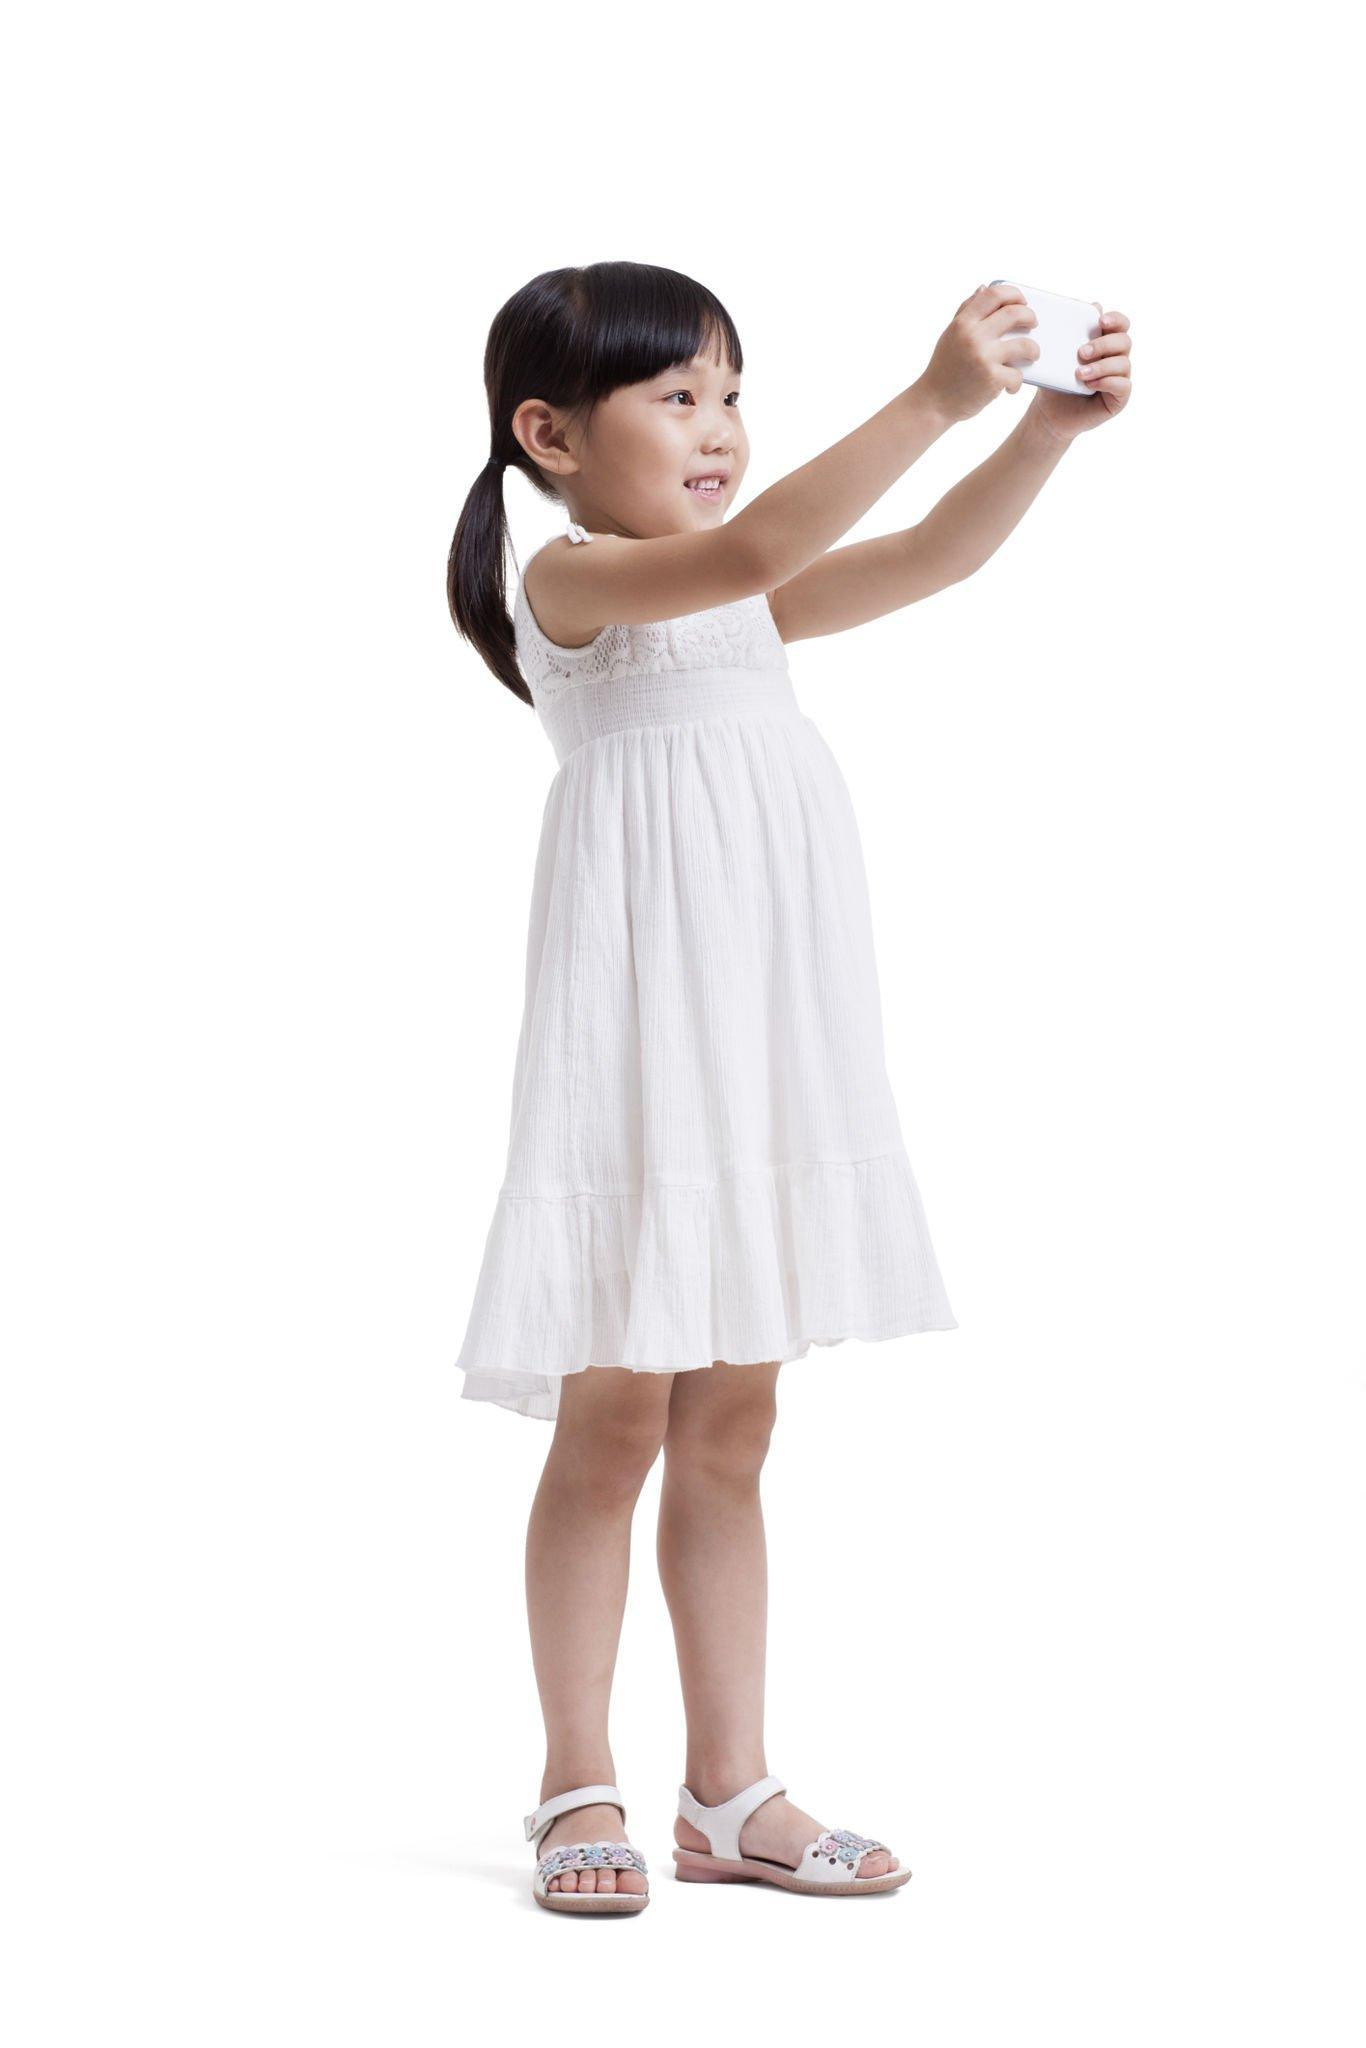Healthy: (486, 192, 793, 542)
